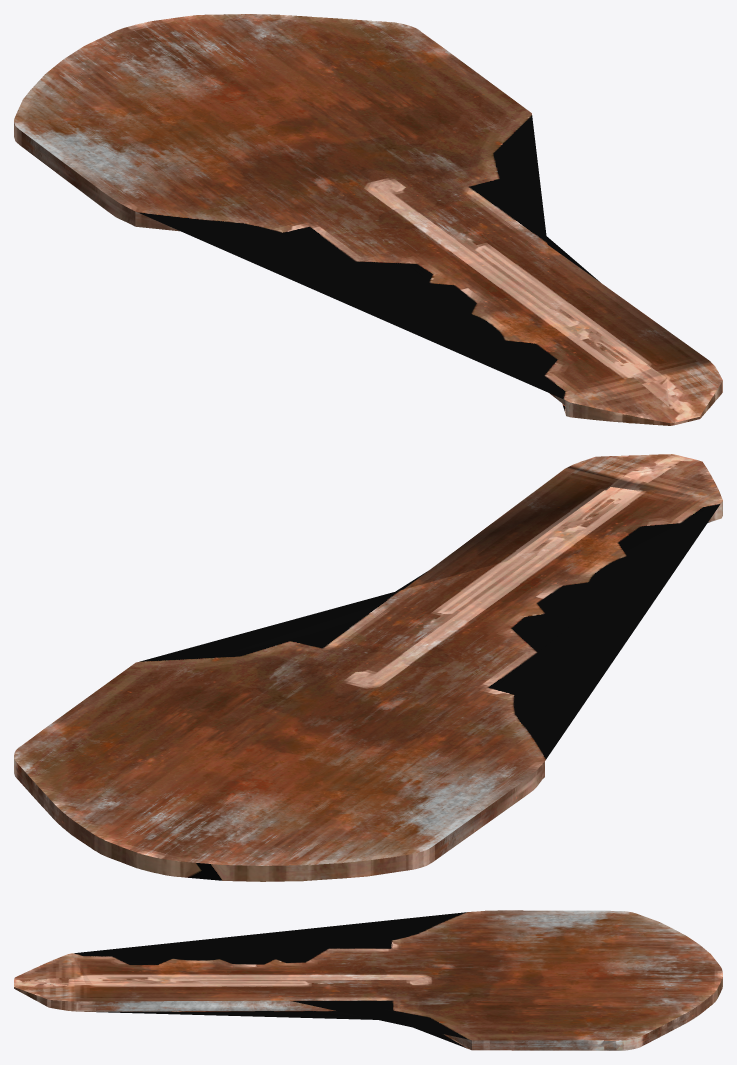
The model's file is RustyKey.fbx.
The picture shows the model from 3 angles, top to bottom: view 1: azimuth 30°, elevation 25°; view 2: azimuth 150°, elevation 25°; view 3: azimuth 270°, elevation 25°; orthographic projection. The views are drawn at different scales.
Visible parts, largest first — view 1: Rusty Key; view 2: Rusty Key; view 3: Rusty Key.
Part boxes in pixels (box(x1,y1,x2,y2)): Rusty Key: box(14, 14, 722, 425); Rusty Key: box(14, 454, 722, 881); Rusty Key: box(14, 910, 722, 1050).
Bounding box in the file's own units: 91.05 × 3.43 × 209.
